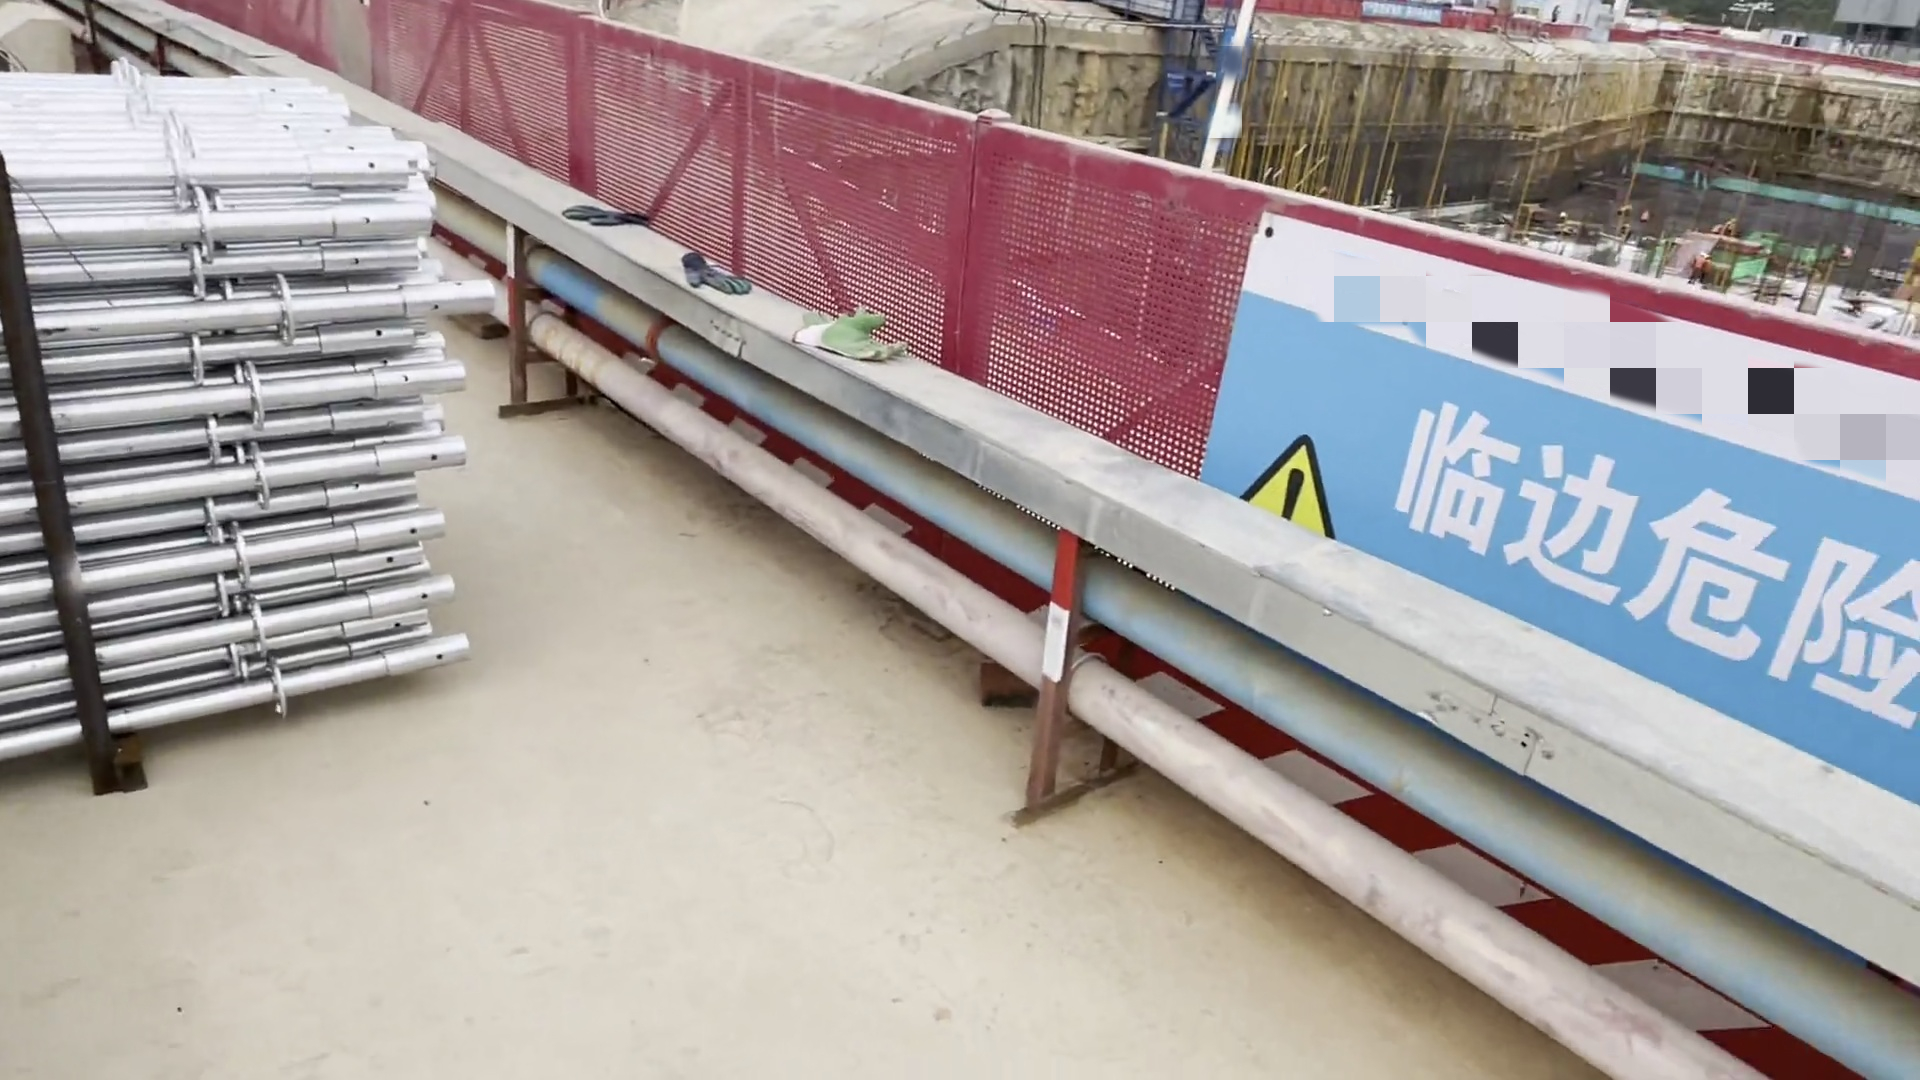fence: (972, 129, 1920, 782), (593, 32, 972, 371), (380, 1, 597, 200)
scaffold: (1, 61, 504, 764)
slogan: (1309, 335, 1915, 767)
